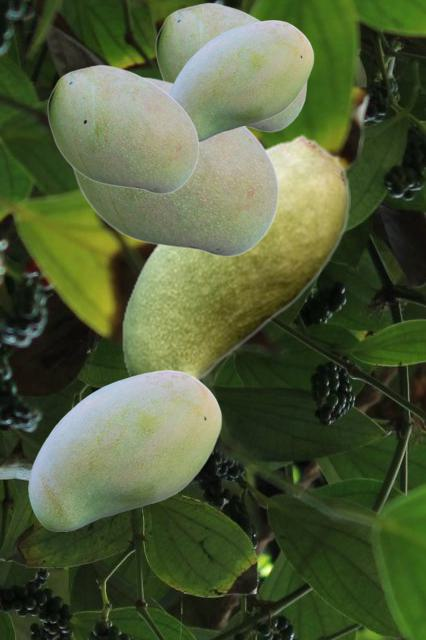green_mango: (121, 134, 349, 380), (72, 76, 278, 256), (28, 370, 221, 530), (155, 2, 306, 131), (47, 64, 198, 193), (169, 20, 313, 141)
